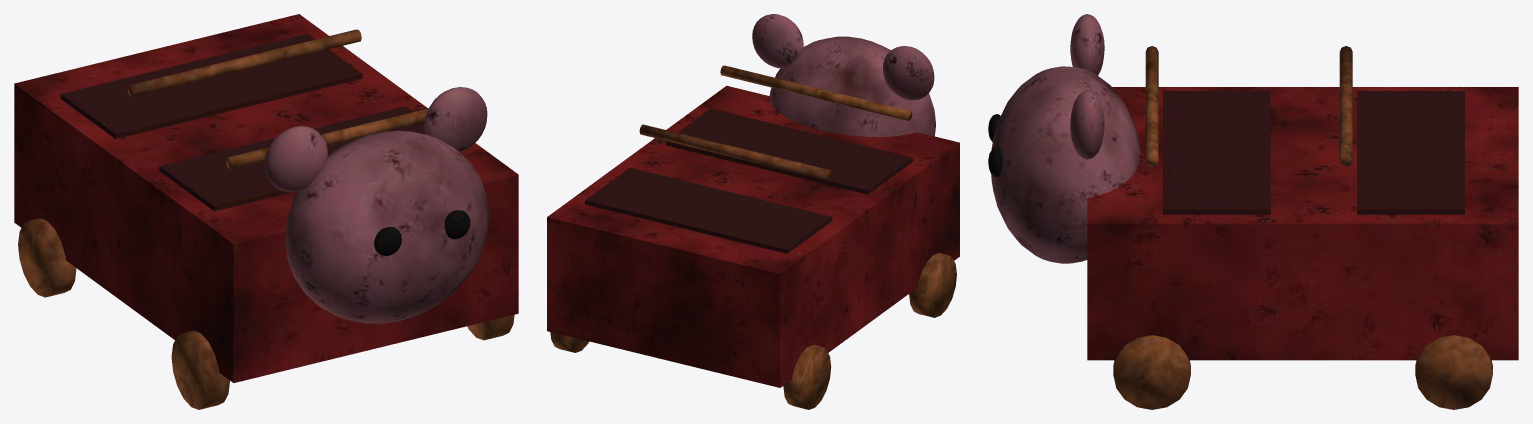
The model's file is coaster_car.glb.
3 renders of one model, left to right at view 1: azimuth 30°, elevation 25°; view 2: azimuth 150°, elevation 25°; view 3: azimuth 270°, elevation 25°, orthographic. The views are drawn at different scales.
Parts seen in each view (by area): view 1: Main; view 2: Main; view 3: Main.
Boxes of the visible parts, x1=… form: Main: x1=14, y1=14, x2=518, y2=409; Main: x1=547, y1=14, x2=959, y2=409; Main: x1=988, y1=14, x2=1518, y2=409.
Bounding box in the file's own units: 1.6 × 1.44 × 2.46.
Materials: 1 (1 with a texture image).
